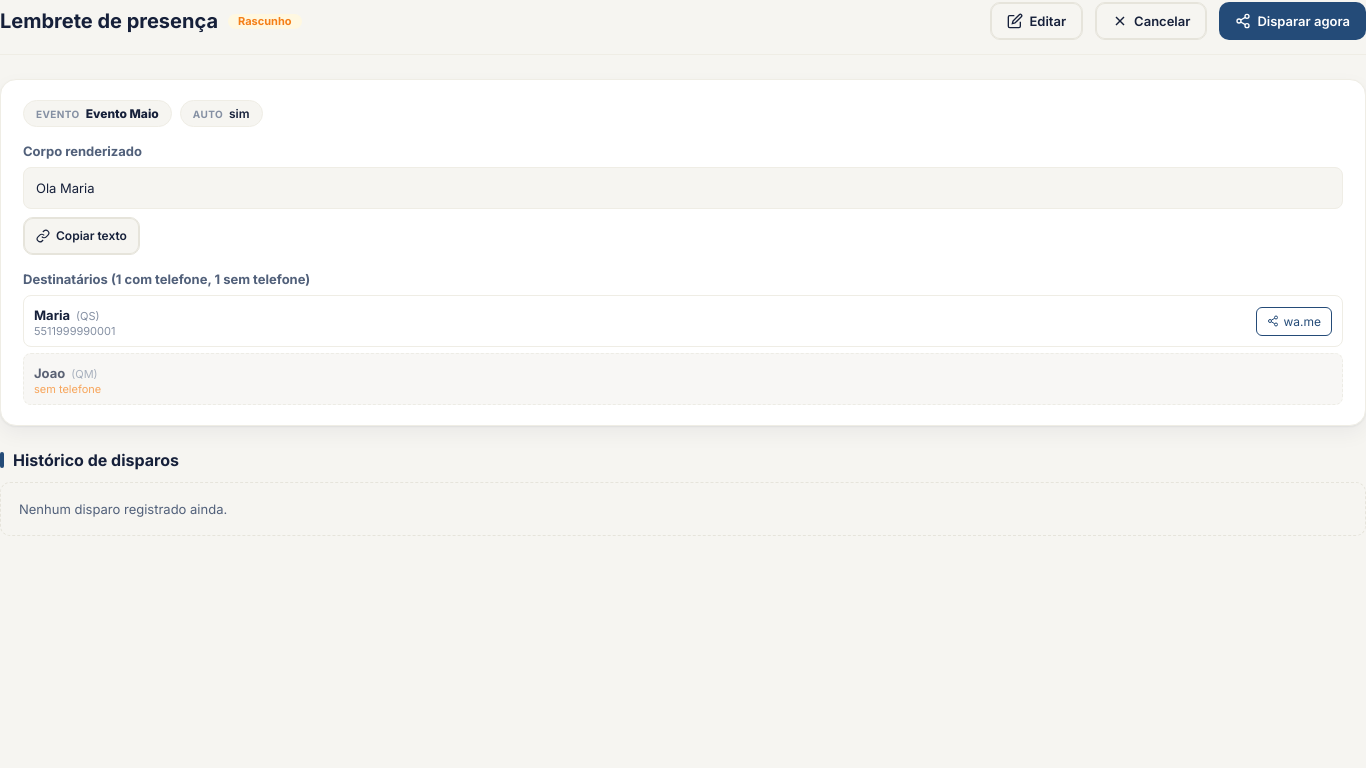
Test case: EventMessageDetailScreen › dispara mensagem apos confirmar, atualiza status e historico
Expected: the text "Ola Maria" is shown, [23, 167, 1343, 209]
Click the button "Disparar agora": (1293, 21) [1219, 2, 1365, 40]
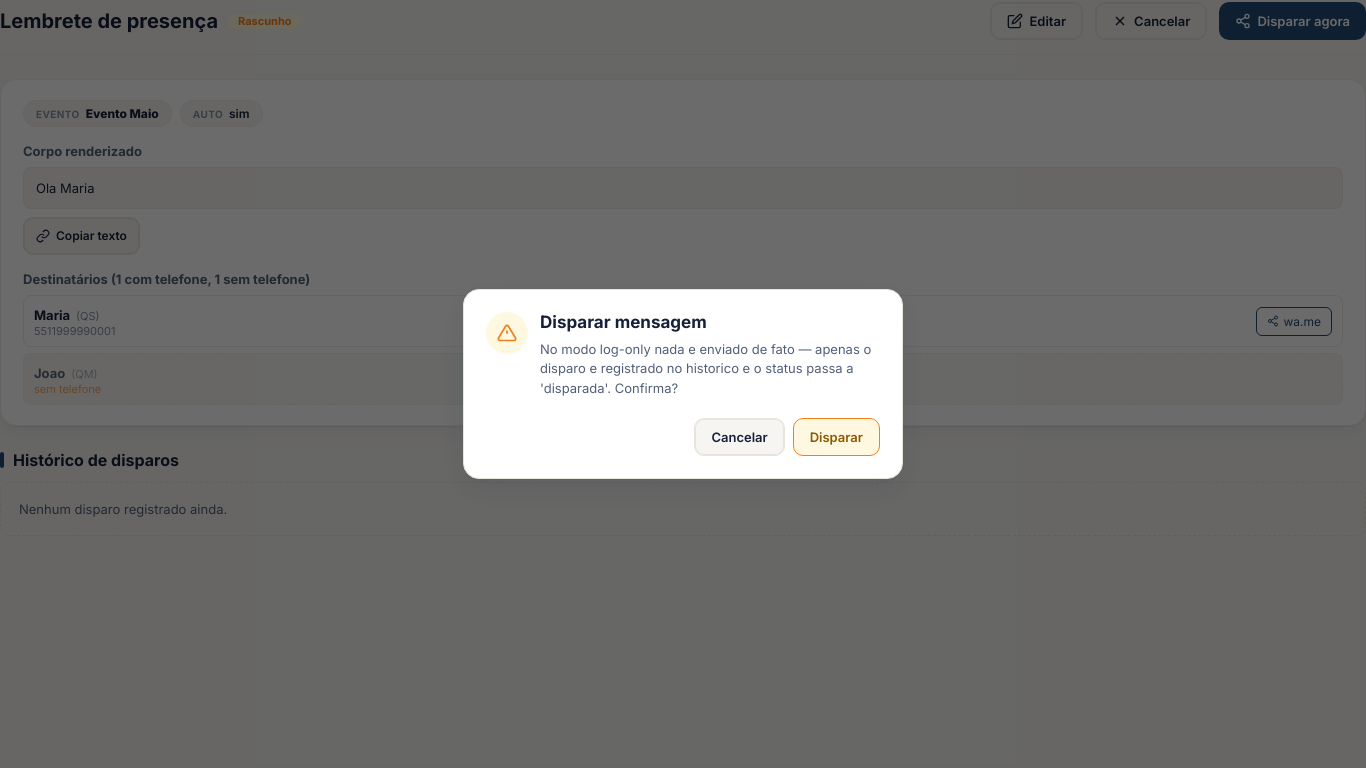
Click the button "Disparar": (836, 437) [793, 418, 880, 456]
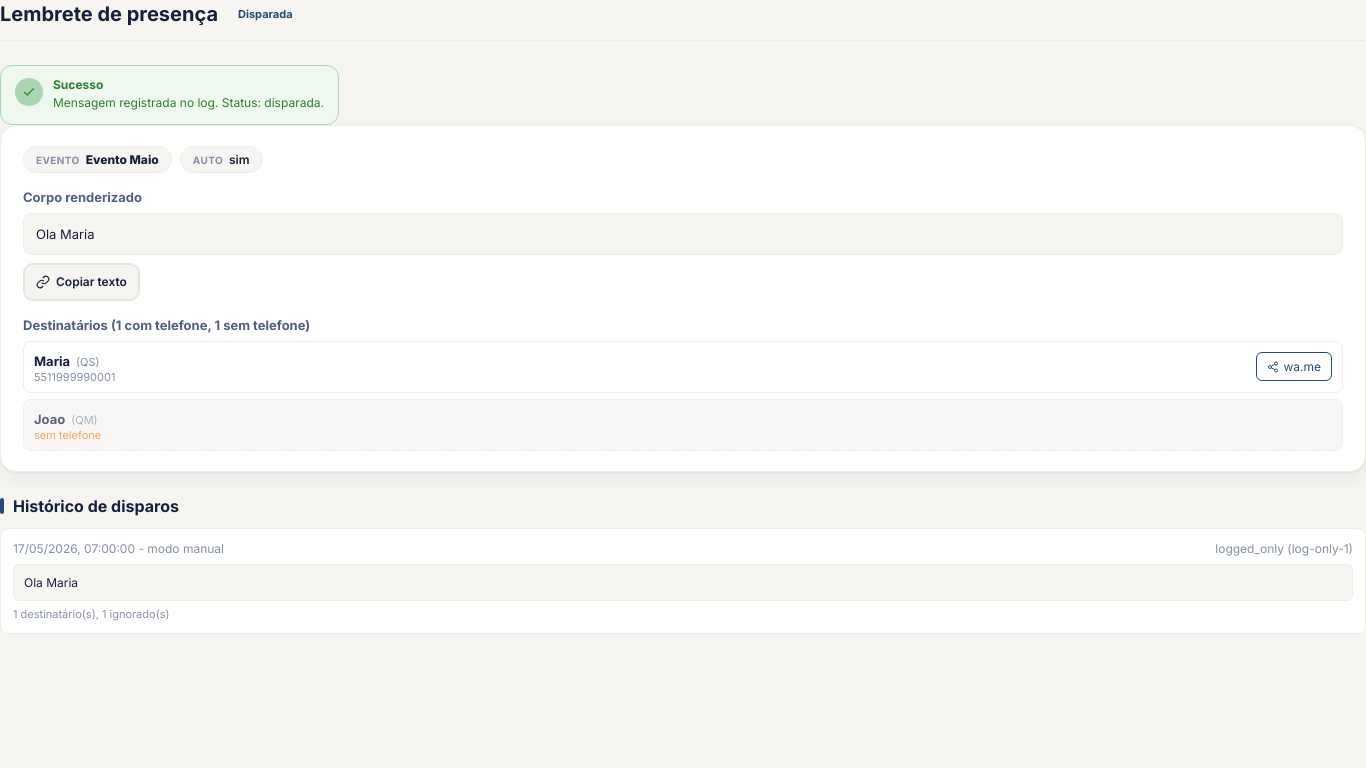
Expected: the text "Disparada" is shown, [228, 6, 303, 22]
Expected: the text "logged_only (log-only-1)" is shown, [1215, 541, 1353, 556]
